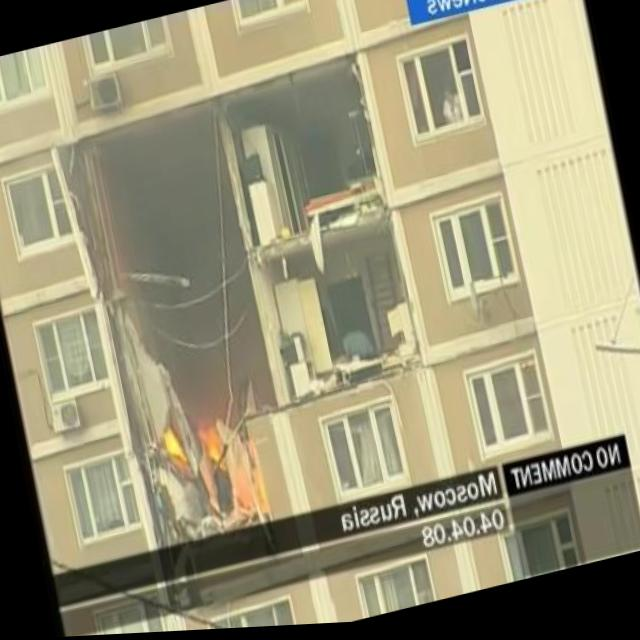fire: (190, 406, 234, 485), (158, 424, 186, 476)
